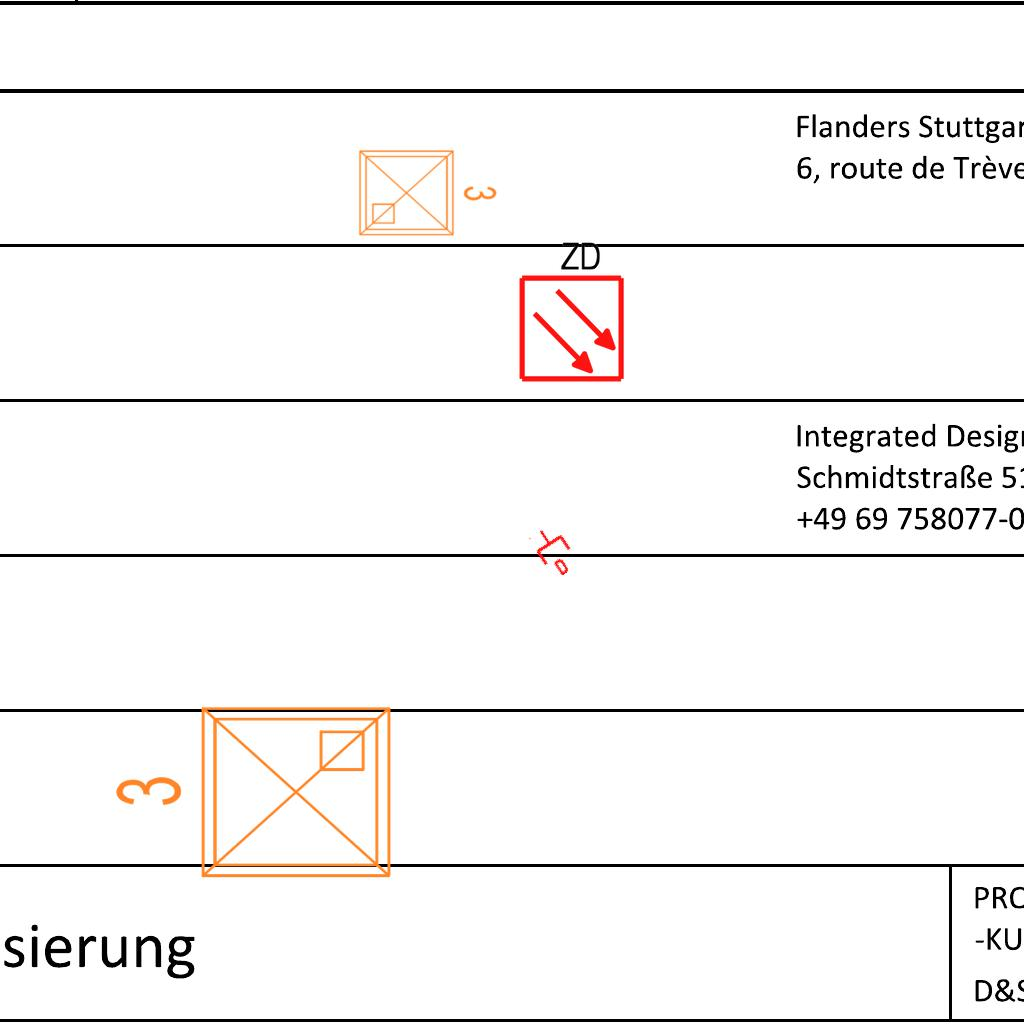Datenanschluss_einfach: (526, 520, 582, 582)
Einbaudownlights_LED_Konferenzraeume: (105, 692, 405, 900), (352, 139, 502, 243)
ZD_Melder_in_Zwischendecke_mit_Revisionsoeffnung_mind_40_x_40_cm: (513, 235, 627, 384)
